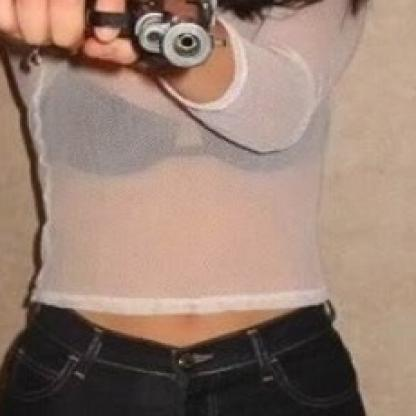gun: (0, 0, 235, 80)
